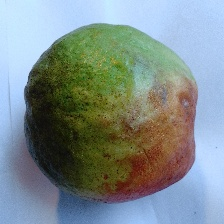guava: (37, 25, 222, 210)
